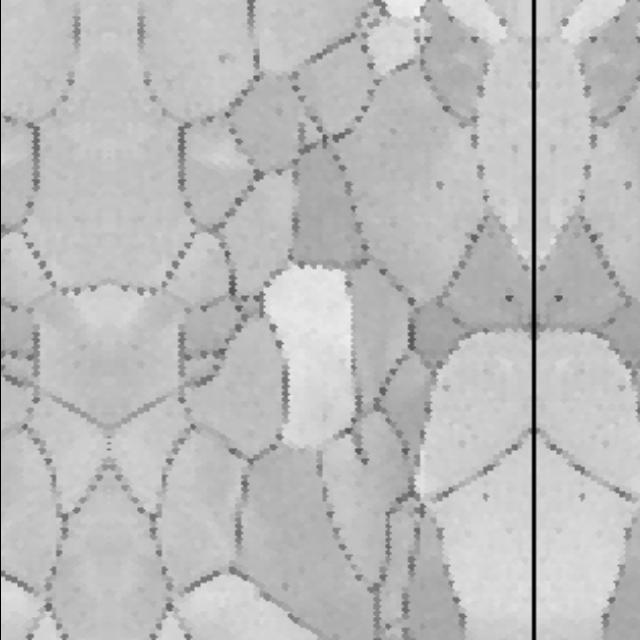good_void: (266, 96, 291, 120), (213, 47, 234, 69), (431, 176, 449, 197), (617, 176, 635, 197), (474, 488, 492, 507), (499, 288, 516, 308), (550, 288, 566, 308), (275, 579, 291, 595), (573, 490, 589, 505)
